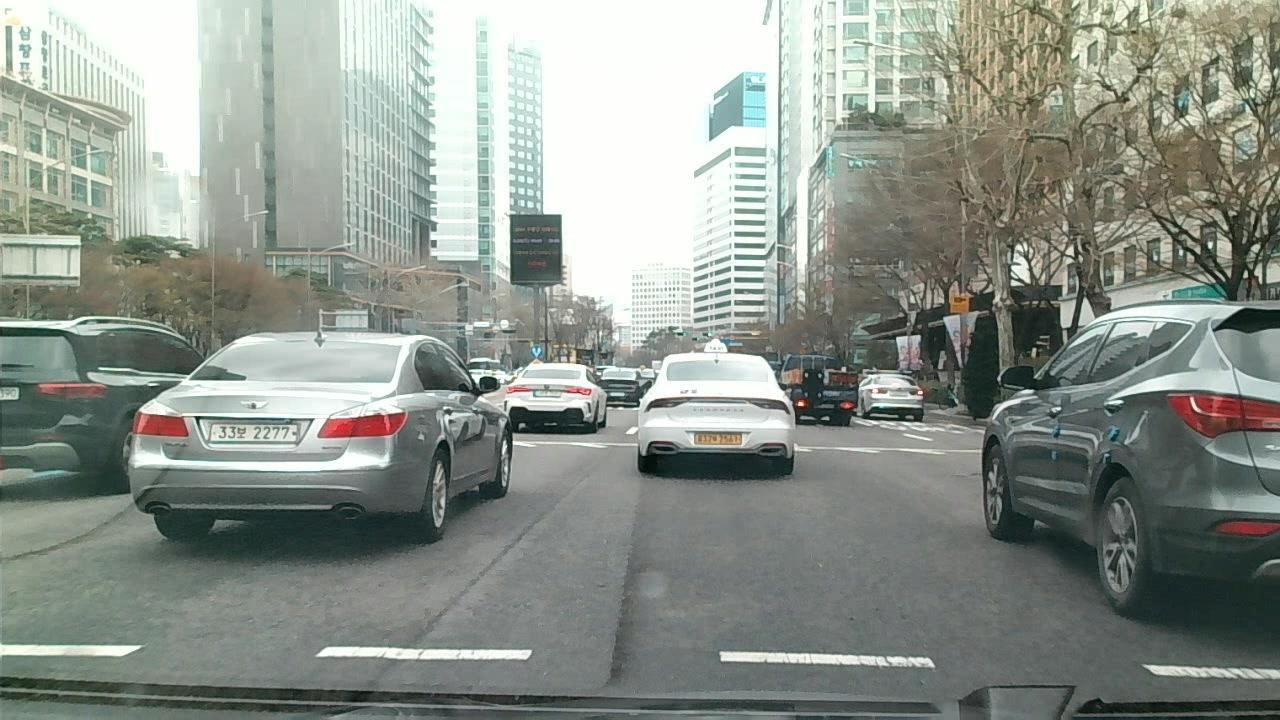banner: (354, 587, 467, 691), (472, 497, 567, 577), (603, 516, 644, 684)
